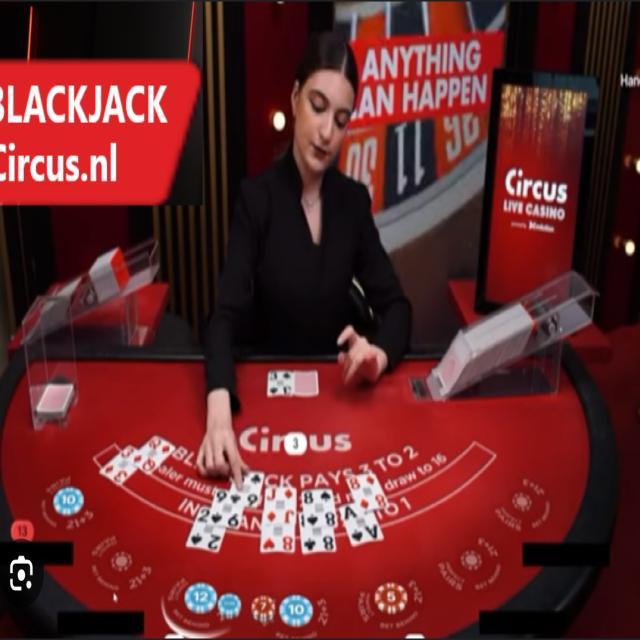Card-2: (187, 503, 225, 552)
Card-3: (98, 443, 138, 486), (267, 370, 293, 396)
Card-6: (230, 468, 265, 508)
Card-8: (347, 473, 389, 512), (298, 512, 337, 553), (302, 488, 336, 527), (261, 522, 295, 553)
Card-9: (208, 488, 242, 530)
Card-A: (340, 503, 384, 547)
Card-J: (264, 489, 296, 521)
Card-Q: (130, 434, 175, 475)
